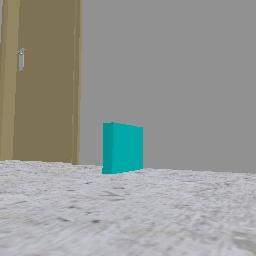turcoaz: (102, 122, 143, 173)
